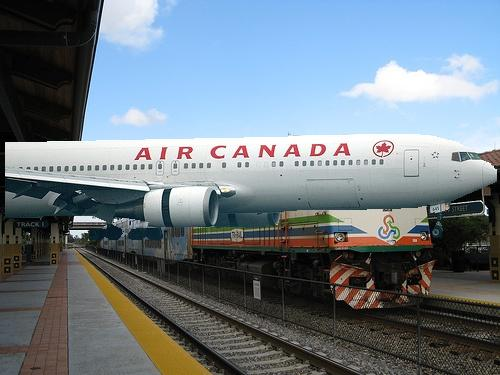tampered: (6, 132, 497, 240)
